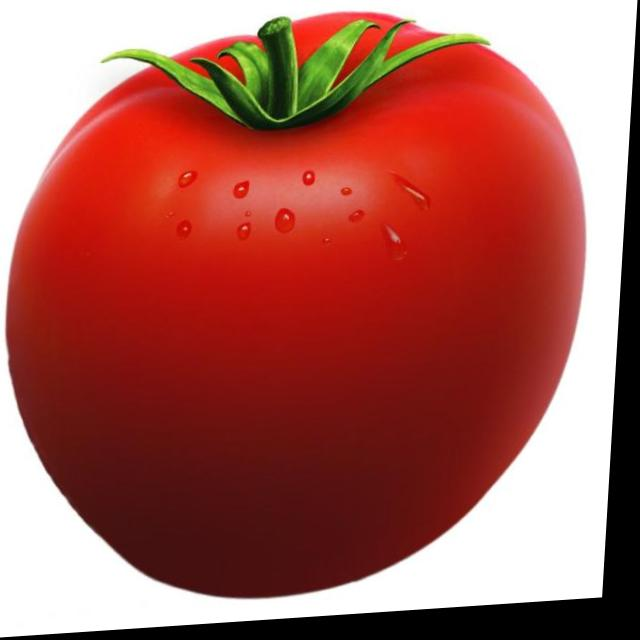kirmizi: (0, 21, 623, 635)
